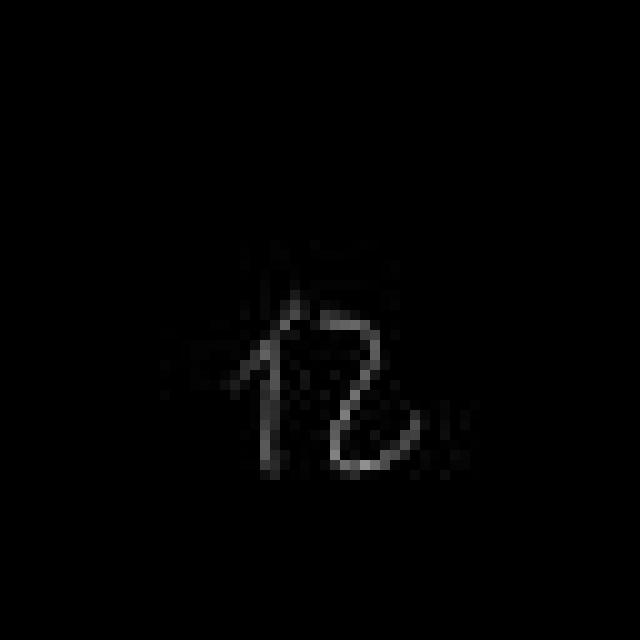100000 -a hundred thousand-: (218, 292, 432, 488)
